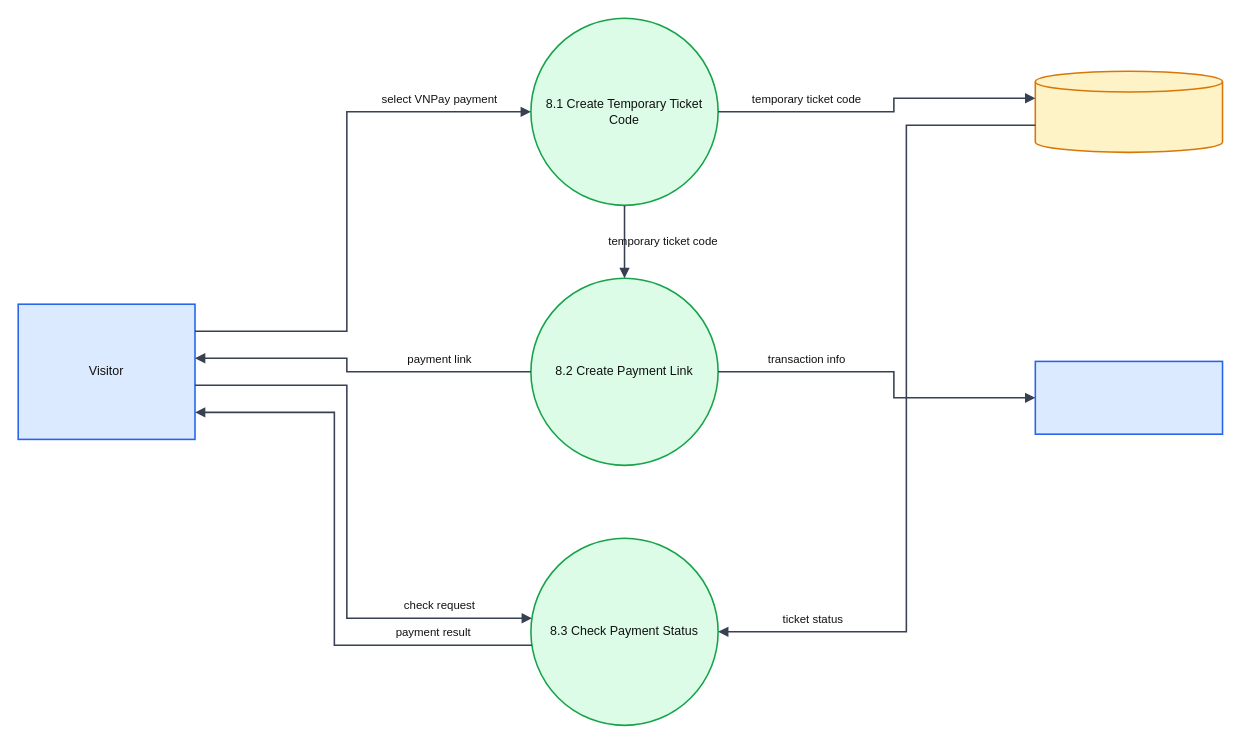
Some shapes in this 1242 by 745 pixel diagram are drawn without their labels. The centre of each missing label's shape, as x and y in pixels:
D3 Ticket Codes: [1128,111]
VNPay: [1128,397]
